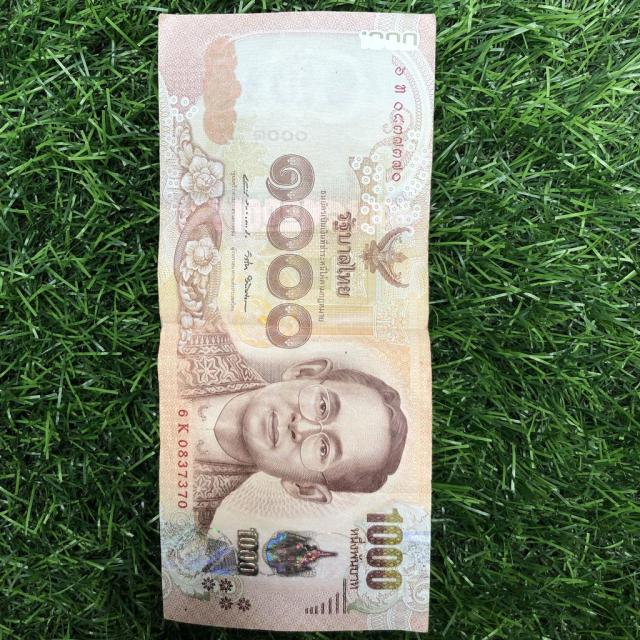THAI1000: (157, 12, 438, 637)
